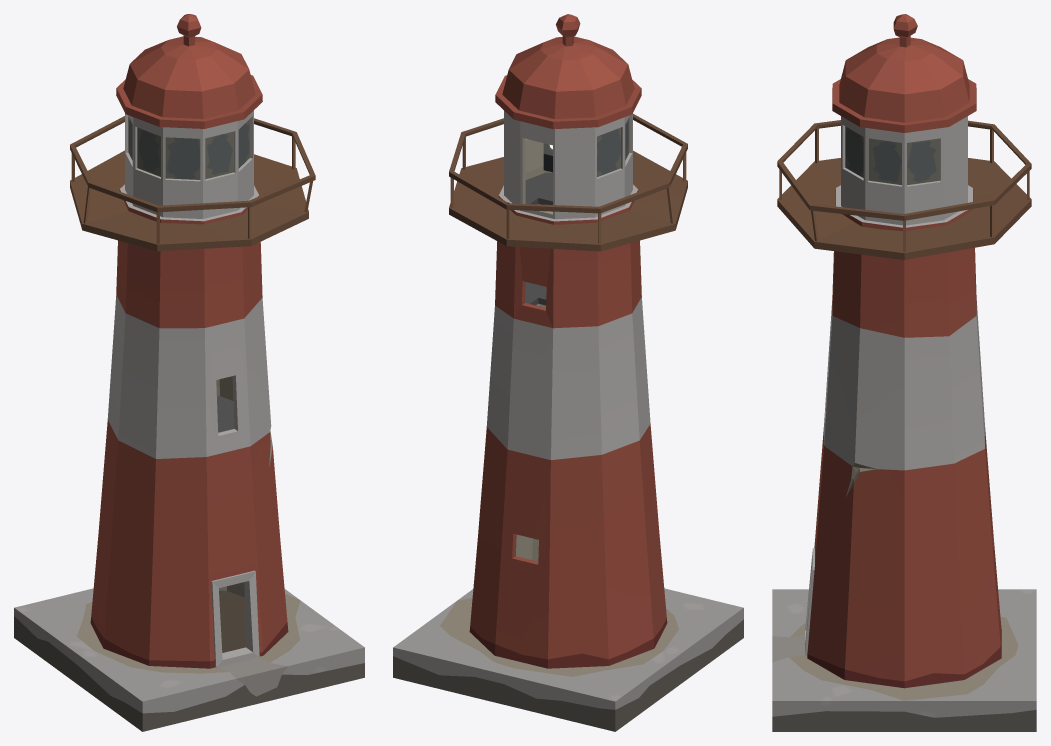
Rendered from SM_Bld_Lighthouse_01.fbx.
3 views of the same model, side by side, from view 1: azimuth 30°, elevation 25°; view 2: azimuth 150°, elevation 25°; view 3: azimuth 270°, elevation 25° (orthographic). The views are drawn at different scales.
Visible parts, largest first — view 1: SM_Bld_Lighthouse_01, SM_Bld_Lighthouse_Glass_01; view 2: SM_Bld_Lighthouse_01, SM_Bld_Lighthouse_Glass_01; view 3: SM_Bld_Lighthouse_01, SM_Bld_Lighthouse_Glass_01.
Part boxes in pixels (x1,y1,x2,y2): SM_Bld_Lighthouse_01: (14,14,364,731); SM_Bld_Lighthouse_Glass_01: (128,116,249,179); SM_Bld_Lighthouse_01: (393,14,743,731); SM_Bld_Lighthouse_Glass_01: (597,117,629,177); SM_Bld_Lighthouse_01: (772,14,1036,731); SM_Bld_Lighthouse_Glass_01: (845,126,940,185).
Bounding box in the file's own units: 749 × 2070 × 749.
2 materials, 2 textured.
